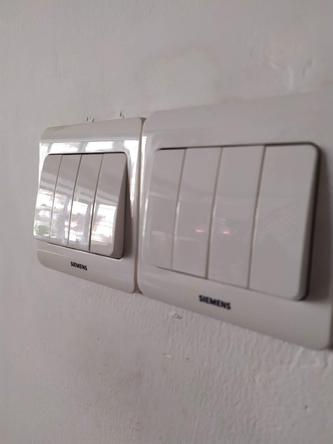switch: (256, 142, 311, 294), (213, 141, 256, 288), (175, 142, 213, 278), (146, 139, 178, 265), (92, 150, 128, 259), (70, 148, 94, 255), (52, 150, 75, 252), (38, 151, 56, 244)
